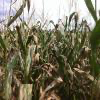Corn leaf blight: (89, 19, 100, 83), (6, 0, 27, 28), (40, 77, 63, 99), (71, 67, 99, 85), (26, 45, 38, 81), (14, 25, 27, 58), (6, 46, 21, 74), (83, 0, 98, 23), (30, 63, 54, 76), (19, 83, 34, 99), (43, 36, 57, 53), (68, 11, 78, 33), (53, 22, 66, 38), (6, 70, 13, 99)
